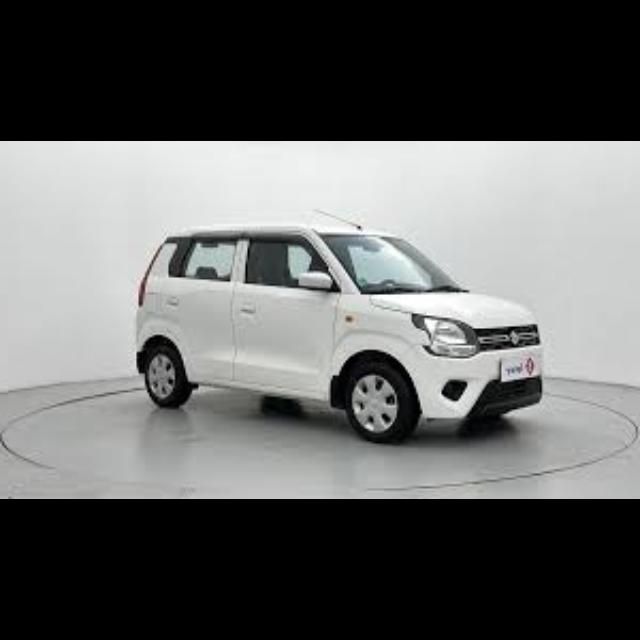vehicles: (128, 212, 552, 450)
